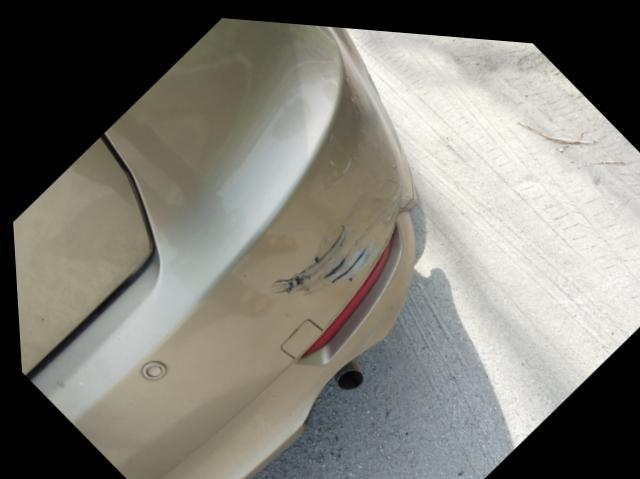scratch: (264, 202, 392, 291)
